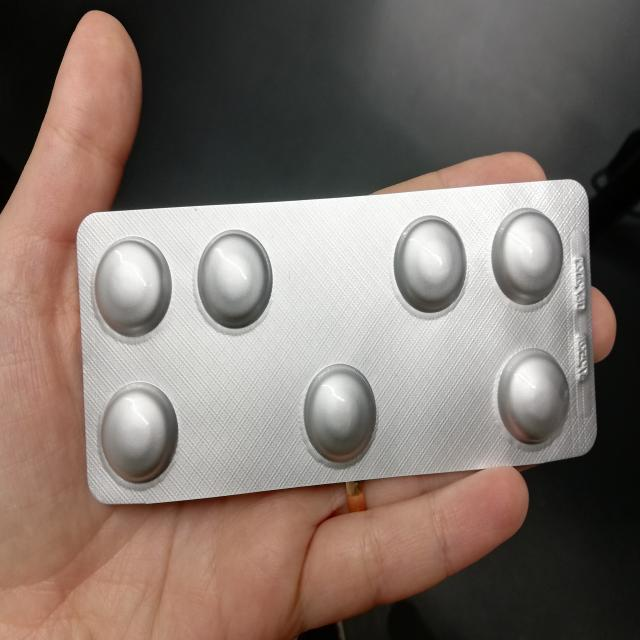Pill: (94, 380, 184, 490), (91, 230, 174, 342), (300, 358, 380, 471), (494, 339, 573, 451), (194, 225, 275, 334), (390, 212, 470, 319), (488, 202, 564, 309)
